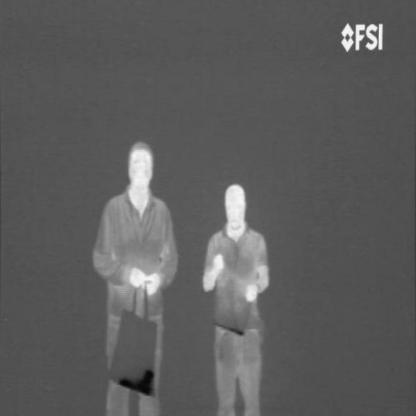weapon: (116, 364, 155, 398)
